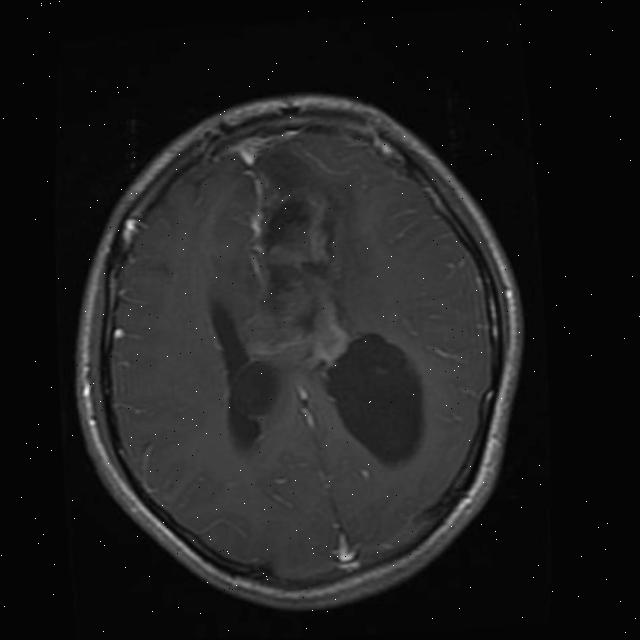Glioma: (241, 272, 352, 370), (262, 187, 332, 270)
